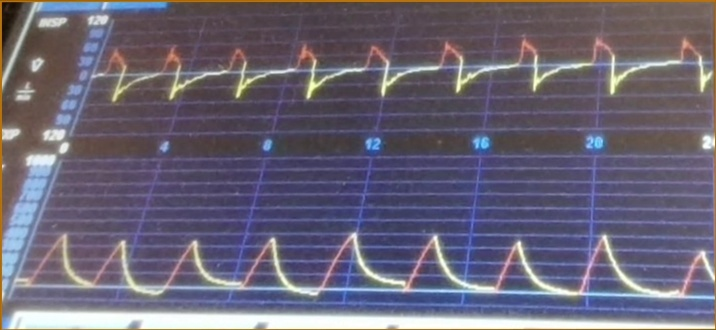Accumulation Flow: (107, 31, 712, 128)
Volume: (33, 224, 713, 309)
